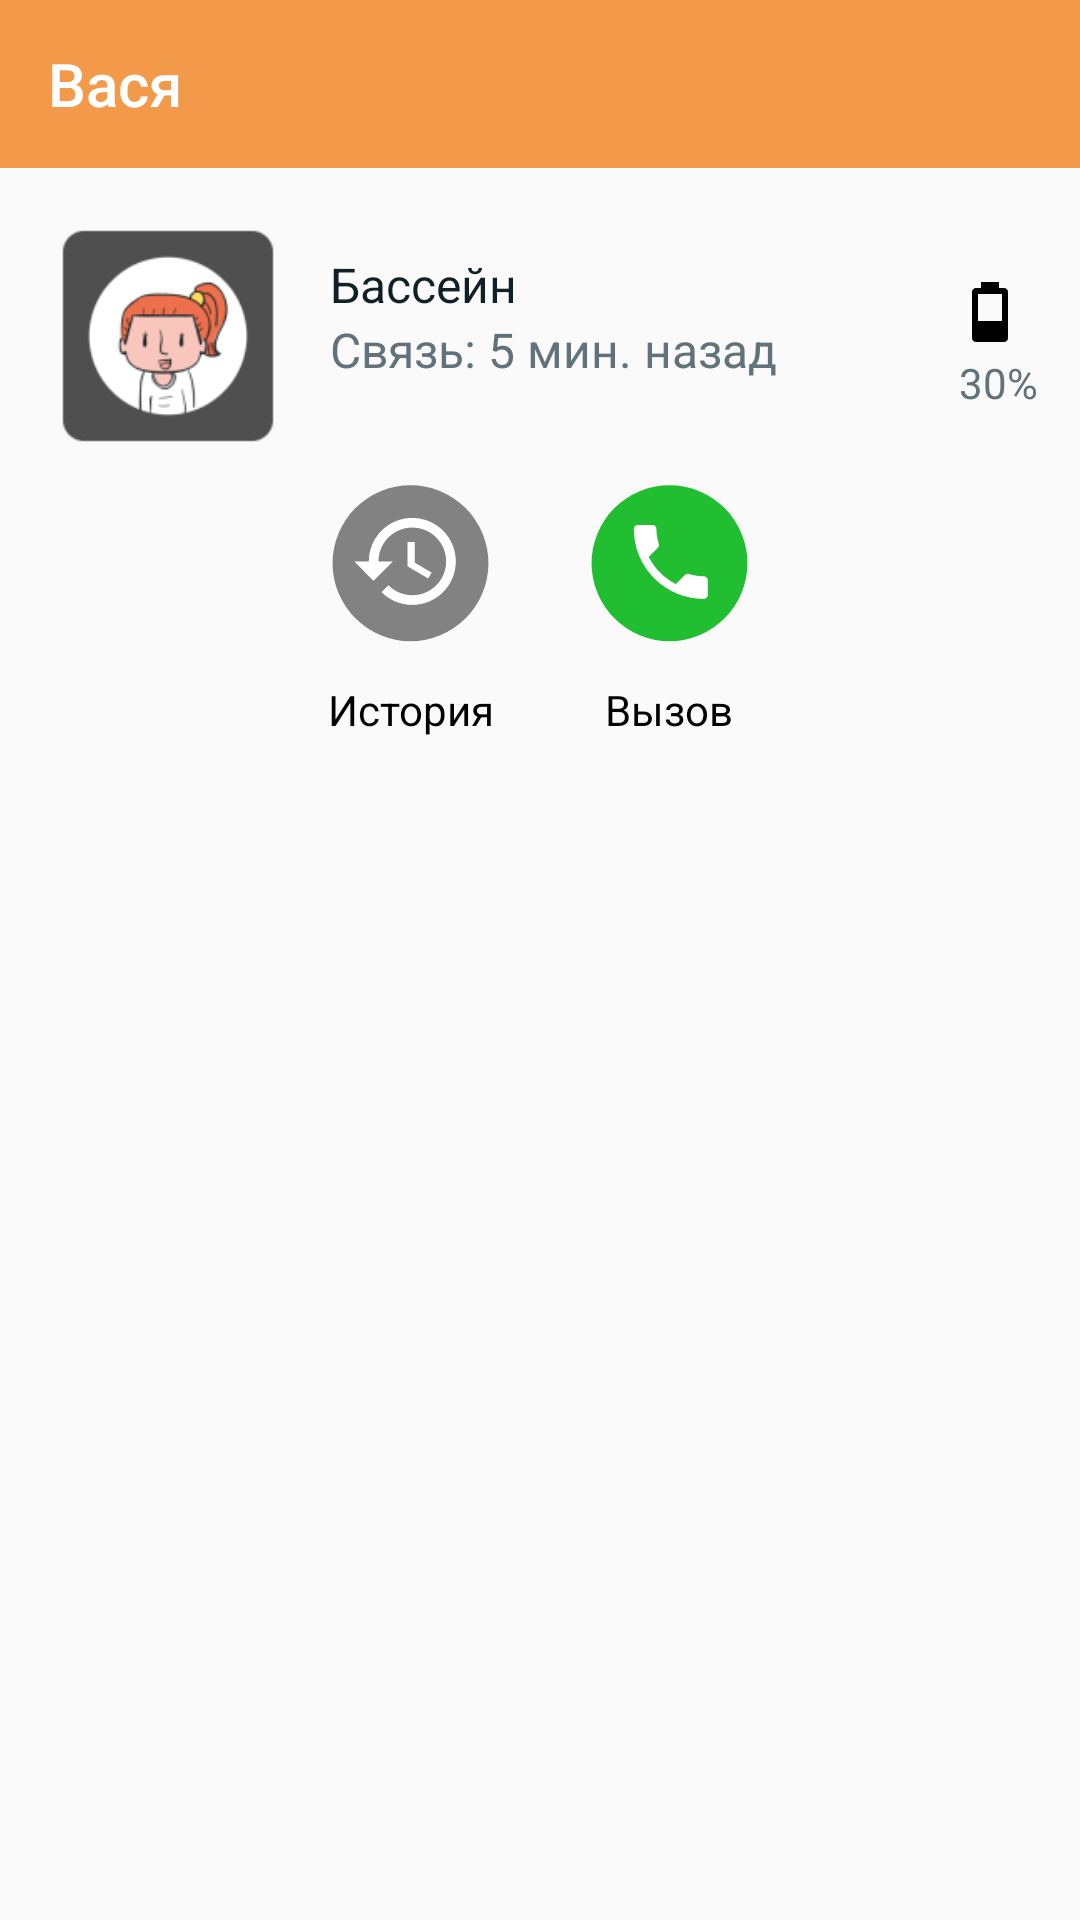

Locate icon controls on the screen. Image size 1080px×1920px, boxes as (x1, y1, x2, y2).
battery: (972, 282, 1008, 342)
call: (591, 485, 748, 642)
history: (332, 485, 489, 642)
